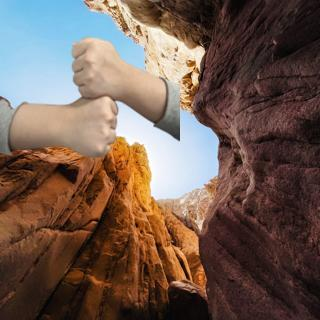CAREFUL: (24, 35, 179, 157)
